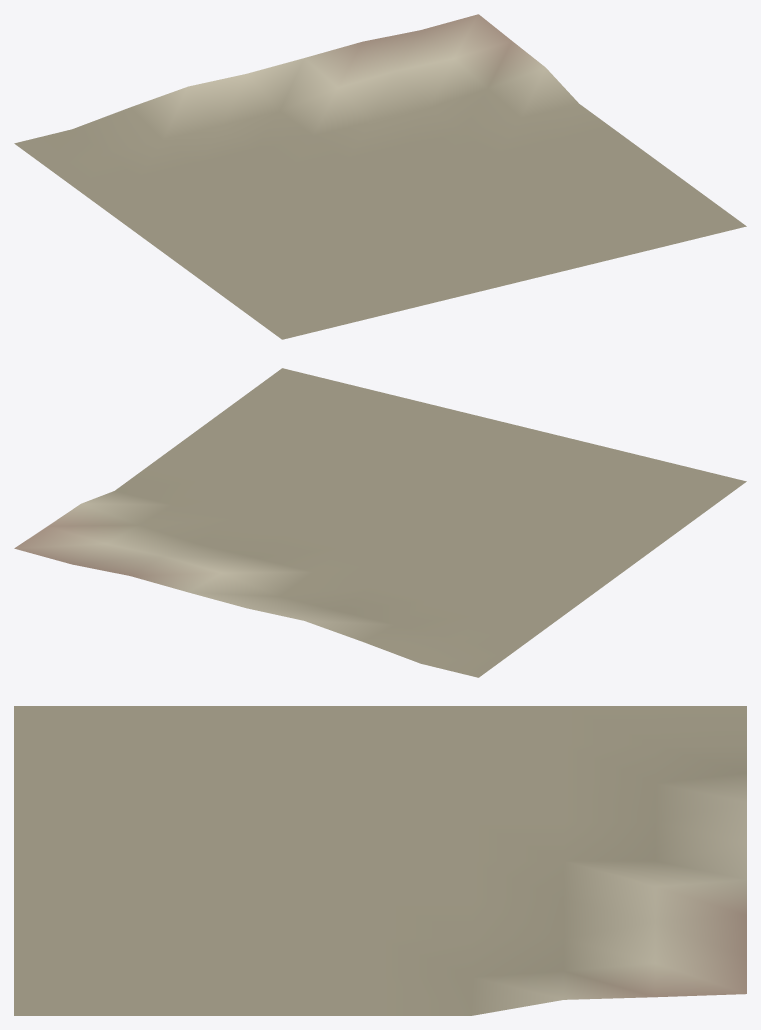
3 views of the same model, one above another, from view 1: azimuth 30°, elevation 25°; view 2: azimuth 150°, elevation 25°; view 3: azimuth 270°, elevation 25° (orthographic). The views are drawn at different scales.
Visible parts, largest first — view 1: Lo; view 2: Lo; view 3: Lo.
Boxes of the visible parts, x1,y1,x2,y2 form: Lo: (14,14,746,339); Lo: (14,368,746,677); Lo: (14,706,746,1015).
Size of the model in its own units: 256 by 8.83 by 256.
